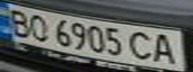0: (84, 22, 106, 54)
5: (103, 25, 127, 57)
6: (48, 16, 72, 47)
9: (66, 20, 87, 51)
A: (148, 30, 184, 65)
B: (3, 6, 33, 38)
C: (127, 29, 157, 61)
O: (24, 11, 51, 43)
